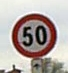limite 50: (10, 12, 57, 58)
